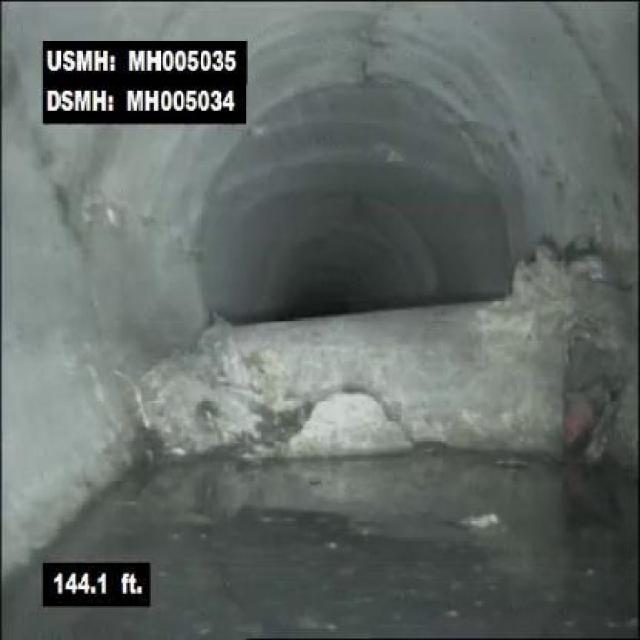Crack: (552, 6, 630, 129)
Utility intrusion: (152, 271, 638, 471)
